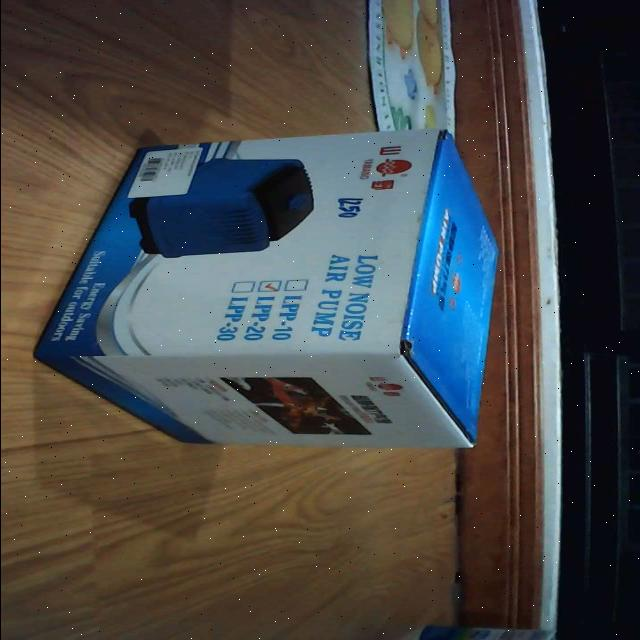YAMANO_LPP_20: (20, 116, 518, 465)
